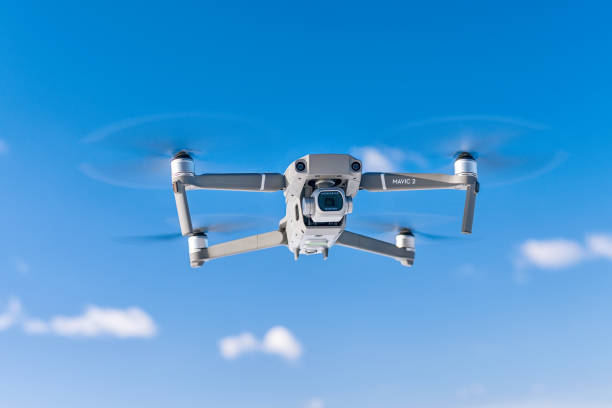Drone: (82, 109, 558, 276)
